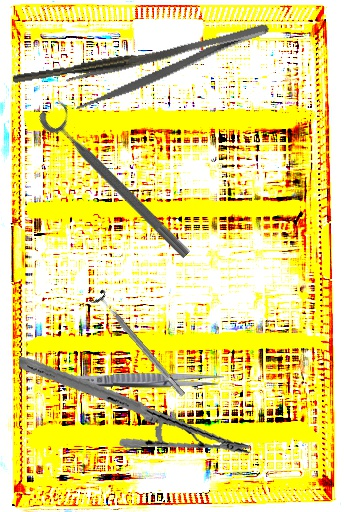Dressing Forceps: (63, 17, 278, 113), (59, 370, 225, 390)
Fixation Ring: (35, 96, 202, 263), (88, 288, 191, 402)
Needle Holder: (18, 327, 251, 485)
Tissue Forceps: (11, 50, 159, 84)
